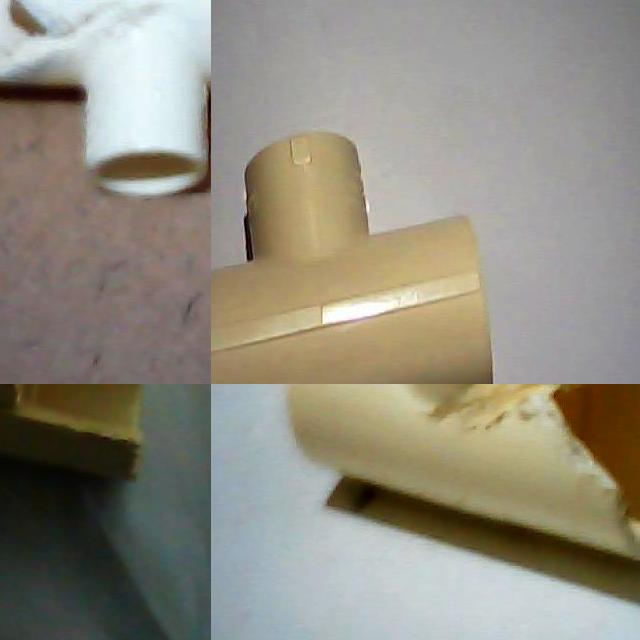Defective: (502, 384, 640, 539), (7, 384, 160, 454), (0, 0, 69, 104)
T Joint: (211, 131, 494, 384), (285, 384, 640, 564)
